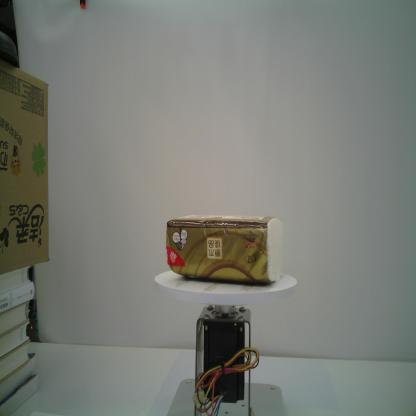Tissue: (166, 214, 287, 285)
